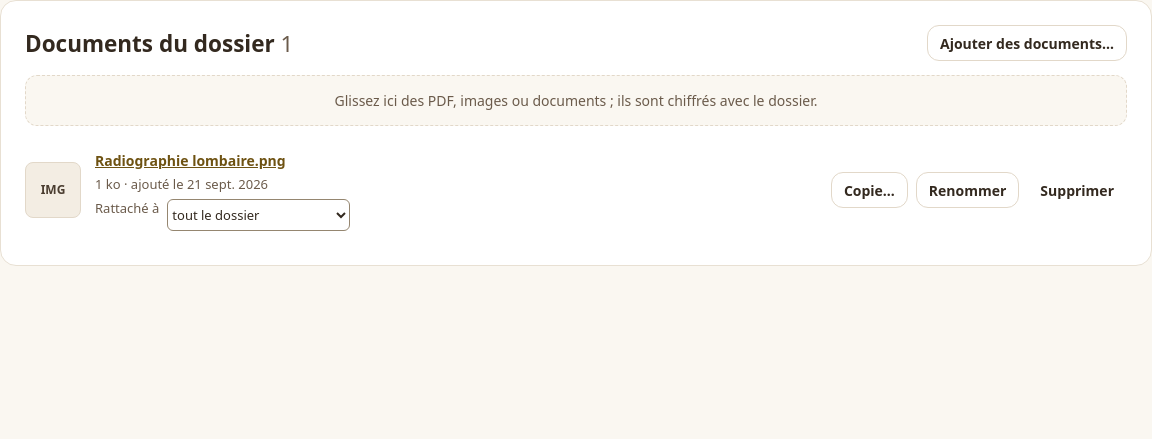
Scenario: pièces jointes › ajoute, rattache à une séance, met à la corbeille et annule
This screenshot has width=1152, height=439.
Expected: the button "Radiographie lombaire.png" is shown, [95, 150, 817, 171]
Click the button "Ajouter des documents…": (1027, 43) [927, 25, 1127, 61]
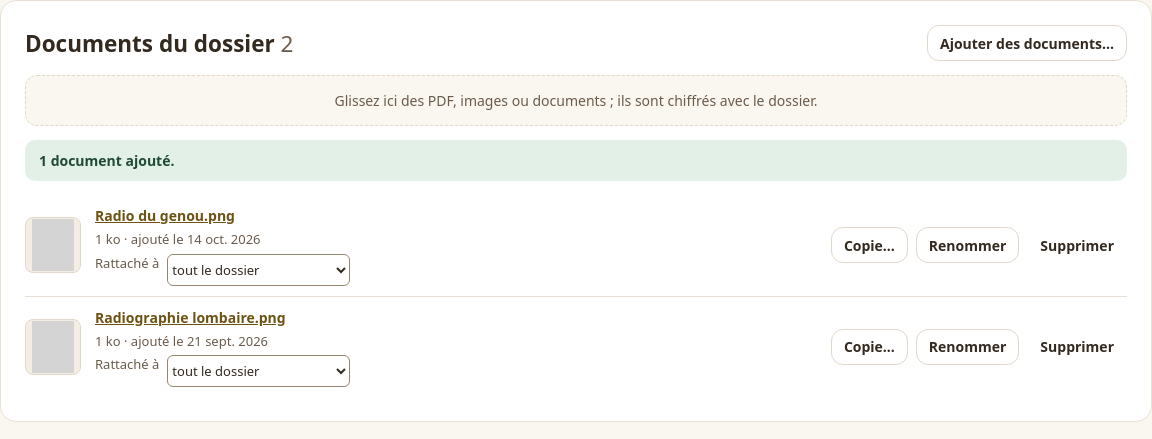
Expected: the text "1 document ajouté." is shown, [25, 140, 1127, 181]
Expected: the button "Radio du genou.png" is shown, [95, 205, 817, 226]
Select "la séance du 12 sept. 2026" in the dropdown labelled "Rattaché à" below "14 oct. 2026": (259, 270) [167, 254, 350, 286]
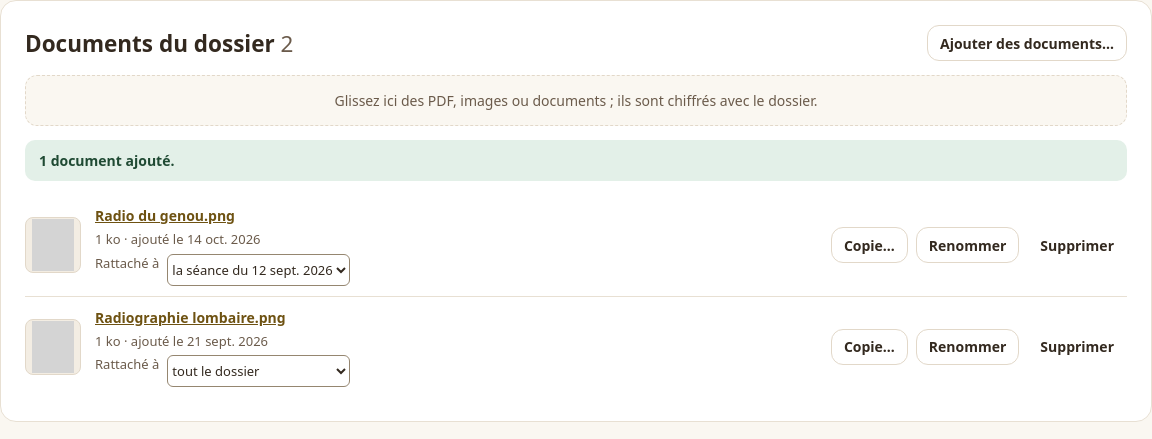
Click the button with aria-label "Mettre Radio du genou.png à la corbeille": (1077, 245) [1027, 227, 1127, 263]
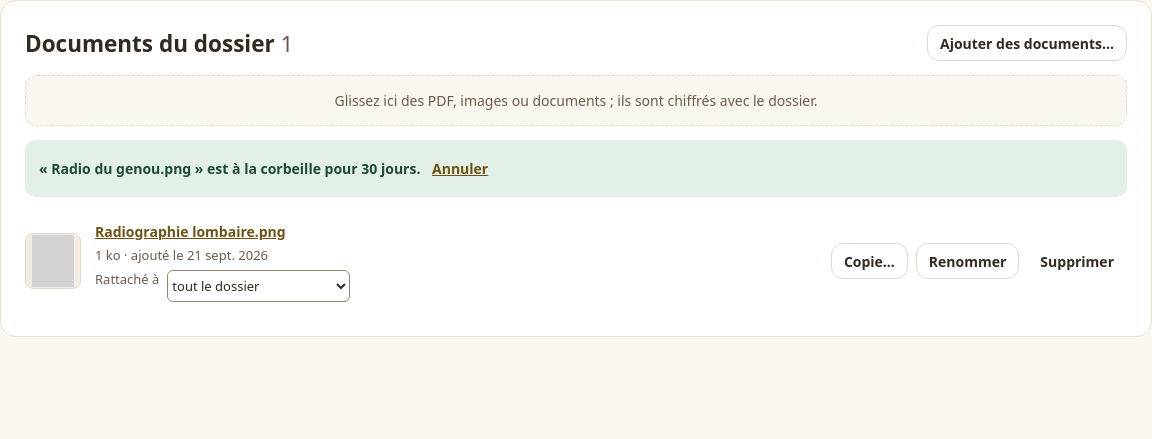
Expected: the text "« Radio du genou.png » est à la corbeille pour 30 jours. Annuler" is shown, [25, 140, 1127, 197]
Click the button "Annuler": (460, 168) [424, 150, 496, 187]
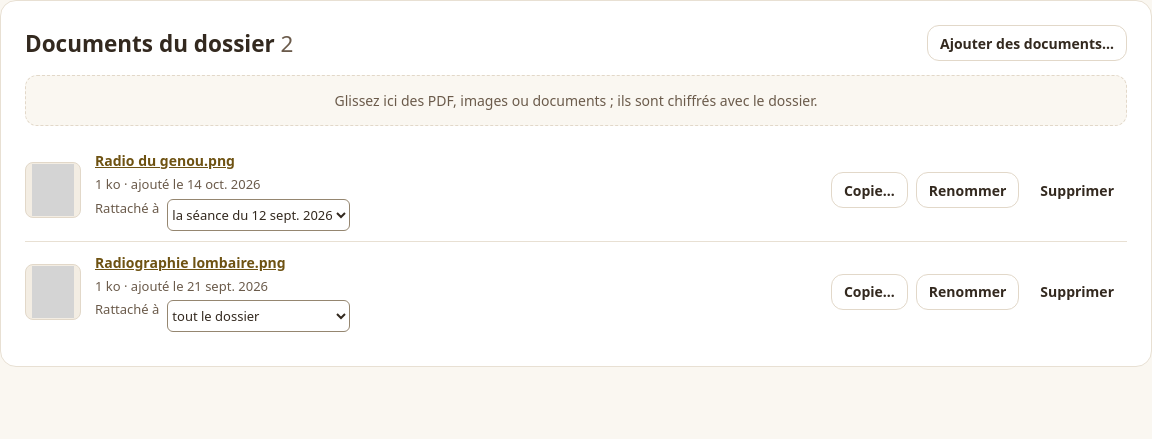
Expected: the button "Radio du genou.png" is shown, [95, 150, 817, 171]
